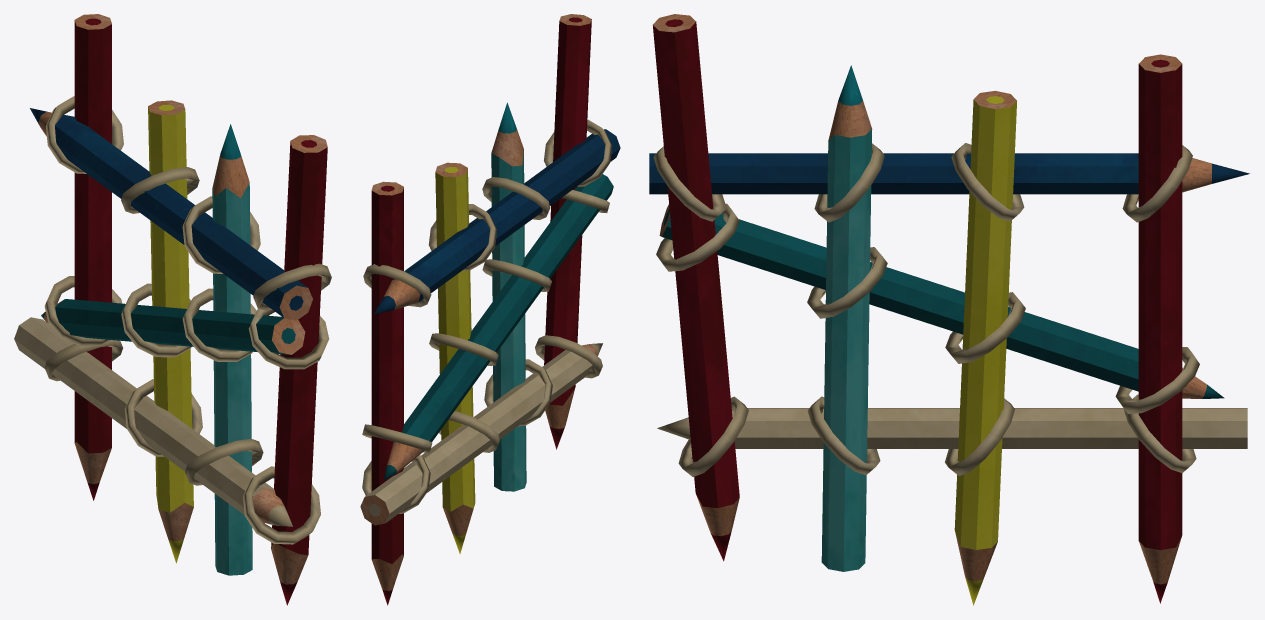
The model's file is Door_Pencil.fbx.
3 renders of one model, left to right at view 1: azimuth 30°, elevation 25°; view 2: azimuth 150°, elevation 25°; view 3: azimuth 270°, elevation 25°, orthographic. The views are drawn at different scales.
Visible parts, largest first — view 1: PencilDoor; view 2: PencilDoor; view 3: PencilDoor.
Part boxes in pixels (bbox=[...]): PencilDoor: bbox=[14, 14, 331, 605]; PencilDoor: bbox=[360, 14, 620, 605]; PencilDoor: bbox=[649, 14, 1249, 605].
Bounding box in the file's own units: 30.29 × 216 × 201.
